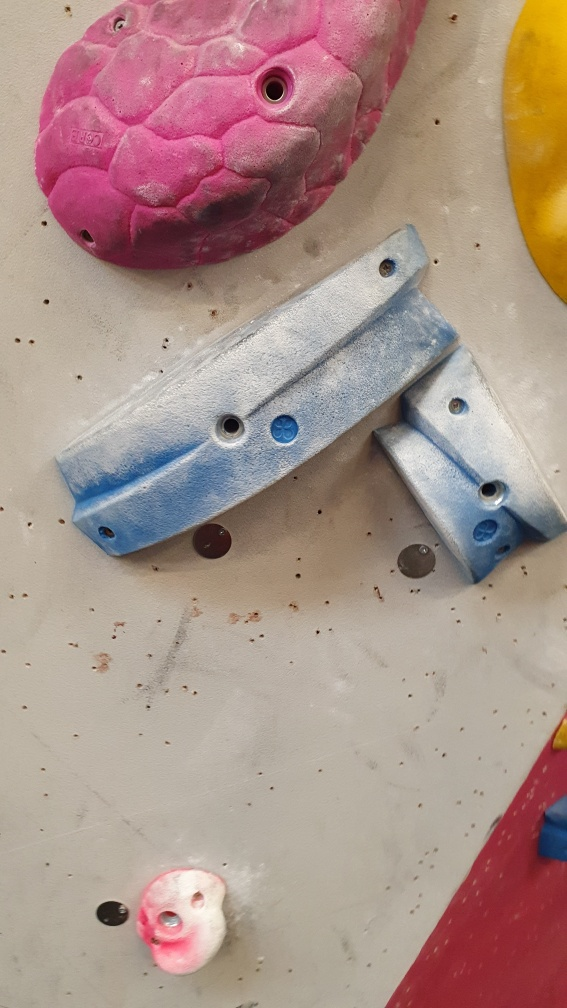Hand Start: (188, 520, 236, 562), (398, 541, 436, 580), (92, 894, 127, 930)
Pinch: (48, 221, 465, 561), (371, 341, 562, 588)
